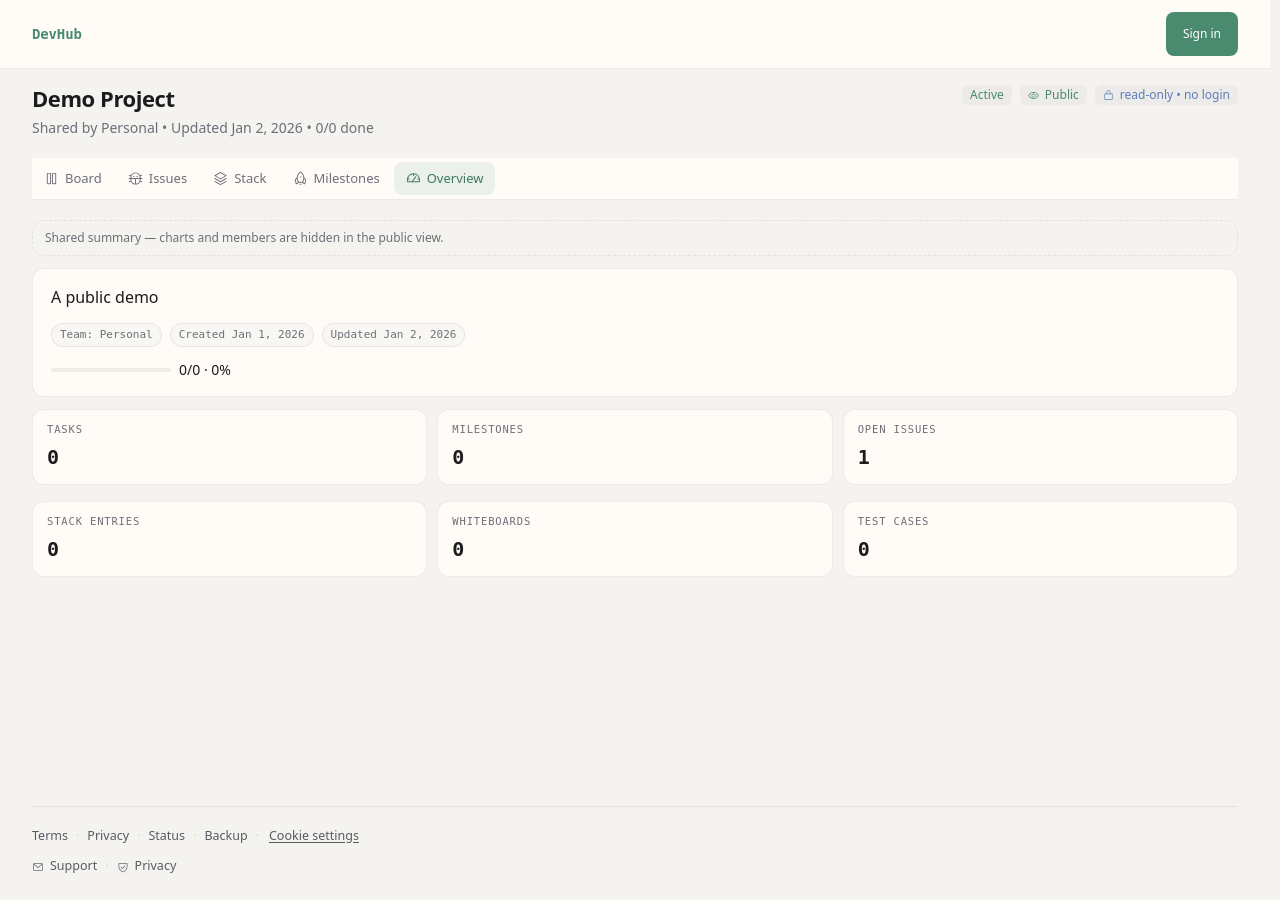
Scenario: PublicProjectPage › shows issue description and reproduction on the Issues tab
Expected: the heading "Demo Project" is shown, [32,83,174,113]
Click the tab "Issues".
click(157, 178)  # box [116,162,199,195]
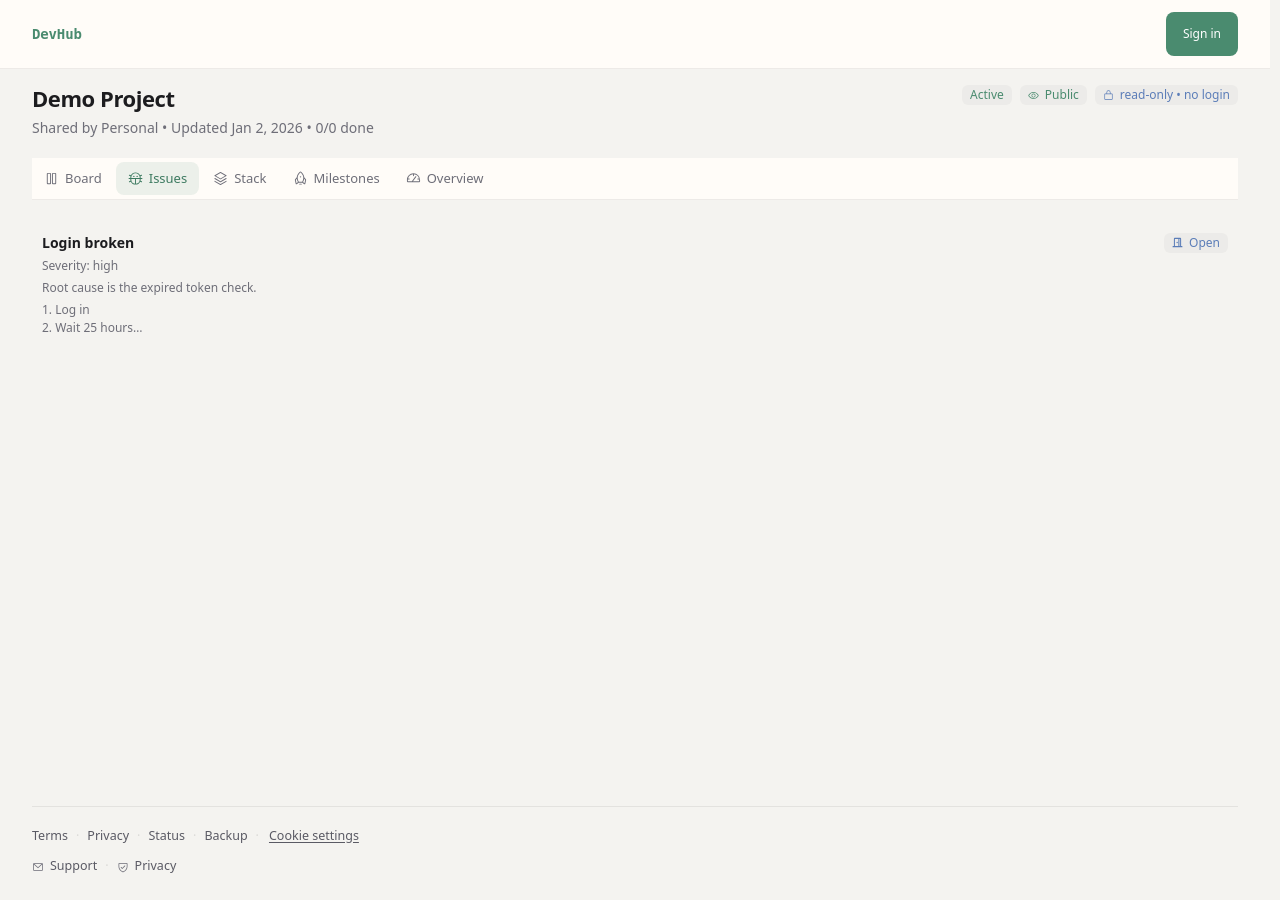
Now the text "Login broken" is shown, box [42,233,134,252]
Now the text "Root cause is the expired token check." is shown, box [42,279,257,296]
Now the text "1. Log in 2. Wait 25 hours 3. Refresh" is shown, box [42,301,133,354]
